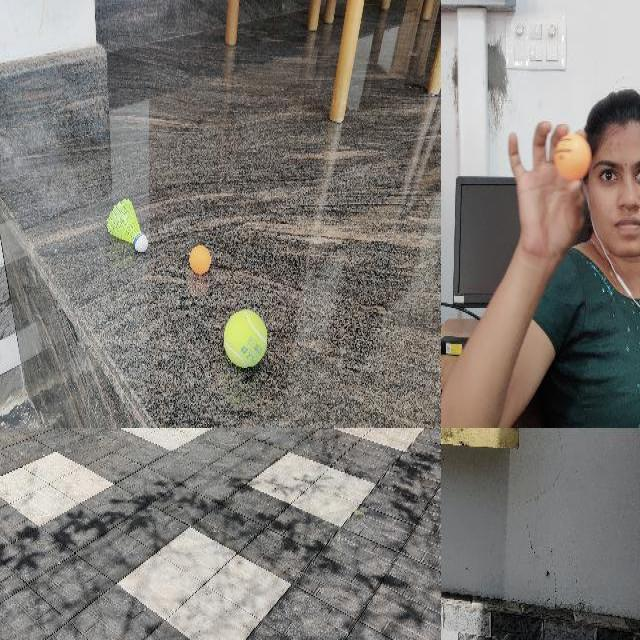ping-pong-ball: (551, 136, 591, 179), (188, 245, 210, 272)
